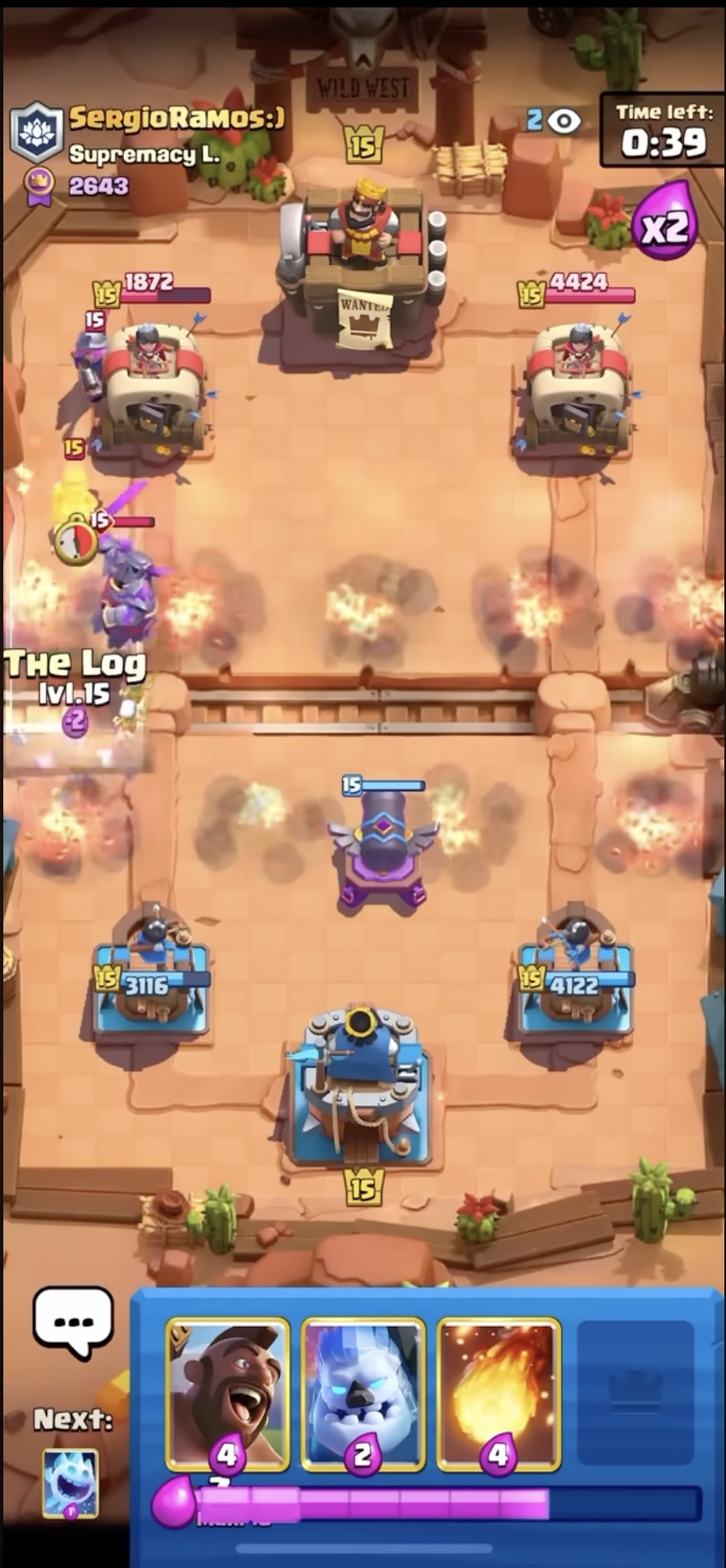evo-cannon: (319, 749, 452, 925)
